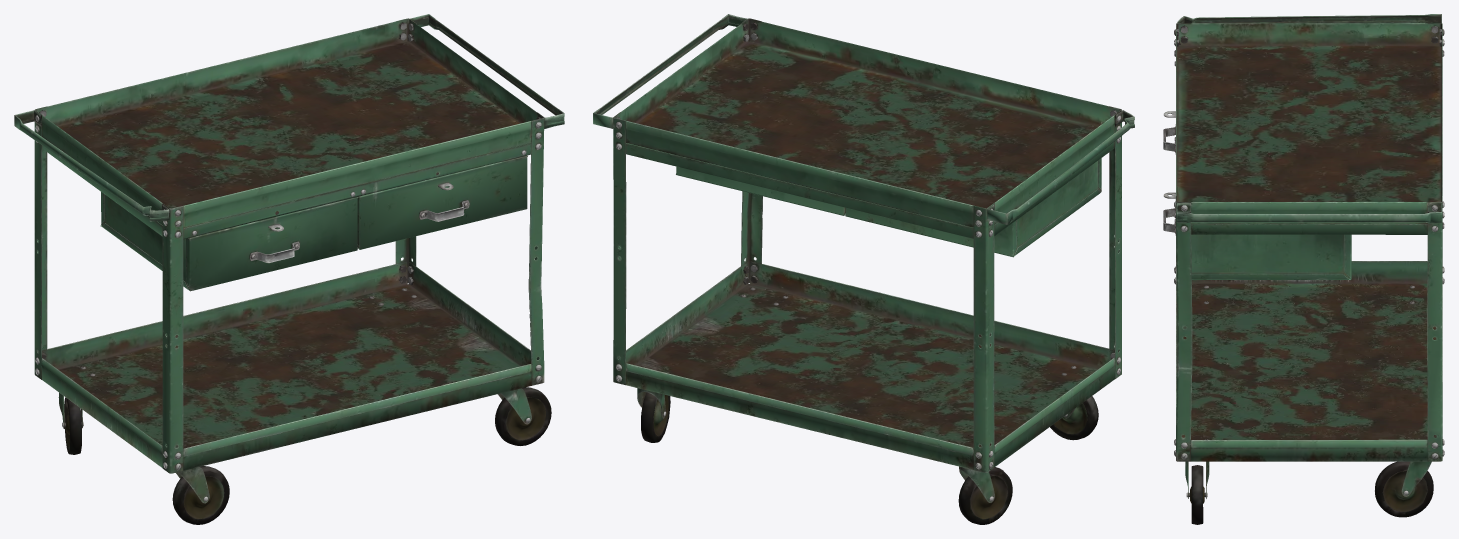
File: tool_cart.glb
The picture shows the model from 3 angles, left to right: view 1: azimuth 30°, elevation 25°; view 2: azimuth 150°, elevation 25°; view 3: azimuth 270°, elevation 25°; orthographic projection. The views are drawn at different scales.
Parts seen in each view (by area): view 1: tool_cart; view 2: tool_cart; view 3: tool_cart.
Part boxes in pixels (bbox=[...]): tool_cart: bbox=[14, 14, 564, 524]; tool_cart: bbox=[593, 14, 1134, 524]; tool_cart: bbox=[1163, 14, 1444, 524].
Bounding box in the file's own units: 1.27 × 0.9653 × 0.7536.
1 material, 1 textured.
